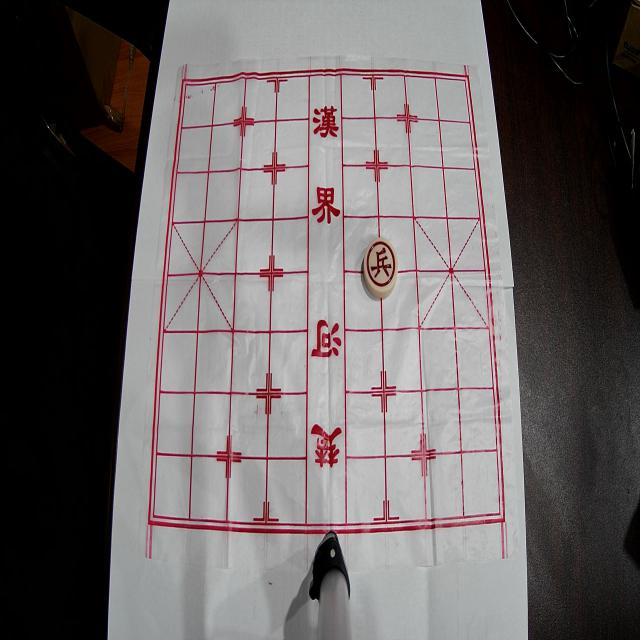red-soldier: (364, 238, 398, 298)
